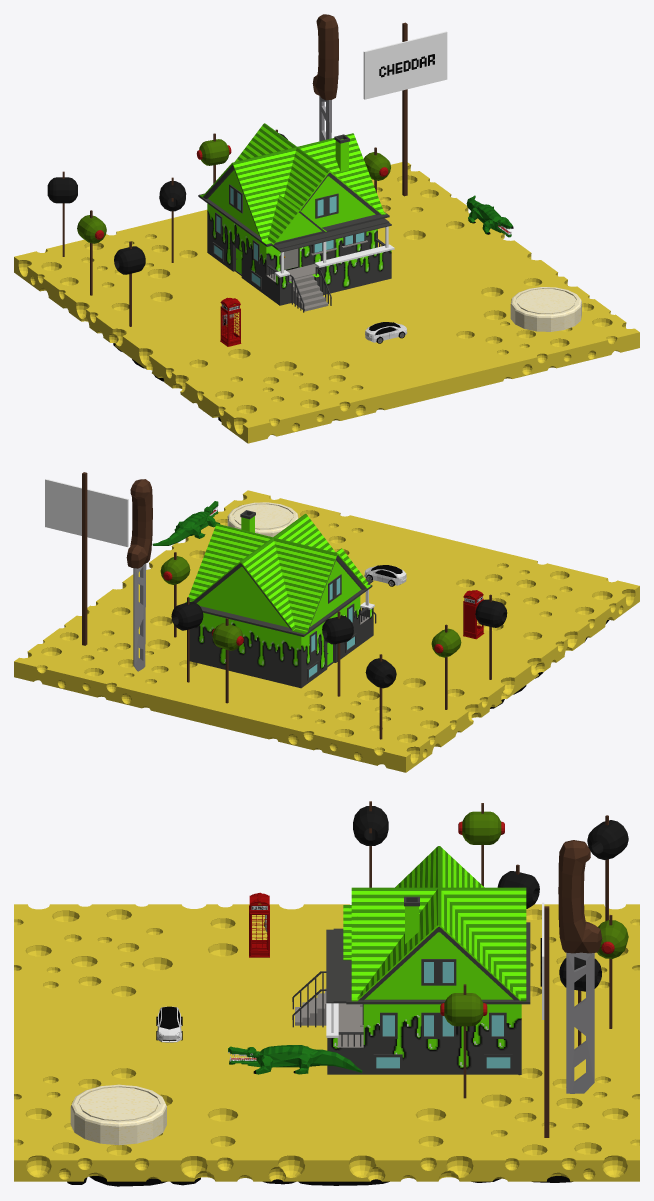
The picture shows the model from 3 angles, top to bottom: view 1: azimuth 30°, elevation 25°; view 2: azimuth 150°, elevation 25°; view 3: azimuth 270°, elevation 25°; orthographic projection. The views are drawn at different scales.
Visible parts, largest first — view 1: Cube.022, Cube.754, Cube.023, Cylinder.016, Cube.024, ANIMAL_COCODRILO, OBJRANDOM_PHONEBOOTH, Sphere.017, Sphere.016, Sphere.020, Sphere.018, Sphere.022 (+2 smaller); view 2: Cube.022, Cube.754, Cube.023, Cube.024, Cylinder.016, ANIMAL_COCODRILO, Sphere.020, Sphere.016, Sphere.022, Sphere.017, Sphere.021, Sphere.018 (+3 smaller); view 3: Cube.022, Cube.754, Cube.024, Cylinder.016, ANIMAL_COCODRILO, Cube.023, Sphere.019, Sphere.016, Sphere.018, Curve.014, Sphere.017, Sphere.022 (+4 smaller).
Boxes of the visible parts, <box> form: Cube.022: <box>14,162,639,443</box>; Cube.754: <box>198,123,394,312</box>; Cube.023: <box>363,22,447,196</box>; Cylinder.016: <box>510,287,581,331</box>; Cube.024: <box>312,14,338,141</box>; ANIMAL_COCODRILO: <box>466,195,513,237</box>; OBJRANDOM_PHONEBOOTH: <box>220,297,241,346</box>; Sphere.017: <box>114,241,145,326</box>; Sphere.016: <box>47,171,77,256</box>; Sphere.020: <box>159,177,186,262</box>; Sphere.018: <box>77,210,106,295</box>; Sphere.022: <box>196,133,231,183</box>; Cube.022: <box>14,490,639,772</box>; Cube.754: <box>185,510,376,688</box>; Cube.023: <box>45,472,128,645</box>; Cube.024: <box>126,479,152,671</box>; Cylinder.016: <box>227,502,298,537</box>; ANIMAL_COCODRILO: <box>152,501,219,545</box>; Sphere.020: <box>322,611,353,696</box>; Sphere.016: <box>365,654,396,739</box>; Sphere.022: <box>212,618,243,703</box>; Sphere.017: <box>475,594,507,679</box>; Sphere.021: <box>171,597,203,682</box>; Sphere.018: <box>431,624,461,709</box>; Cube.022: <box>14,904,639,1181</box>; Cube.754: <box>292,846,530,1074</box>; Cube.024: <box>558,840,602,1093</box>; Cylinder.016: <box>70,1084,166,1145</box>; ANIMAL_COCODRILO: <box>228,1045,362,1074</box>; Cube.023: <box>540,902,549,1137</box>; Sphere.019: <box>440,984,487,1098</box>; Sphere.016: <box>587,815,628,920</box>; Sphere.018: <box>458,803,504,886</box>; Curve.014: <box>67,1176,572,1186</box>; Sphere.017: <box>353,801,388,887</box>; Sphere.022: <box>597,915,628,1028</box>.
Bounding box in the file's own units: 3917 × 1980 × 4000.
Materials: 40 (4 with a texture image).
